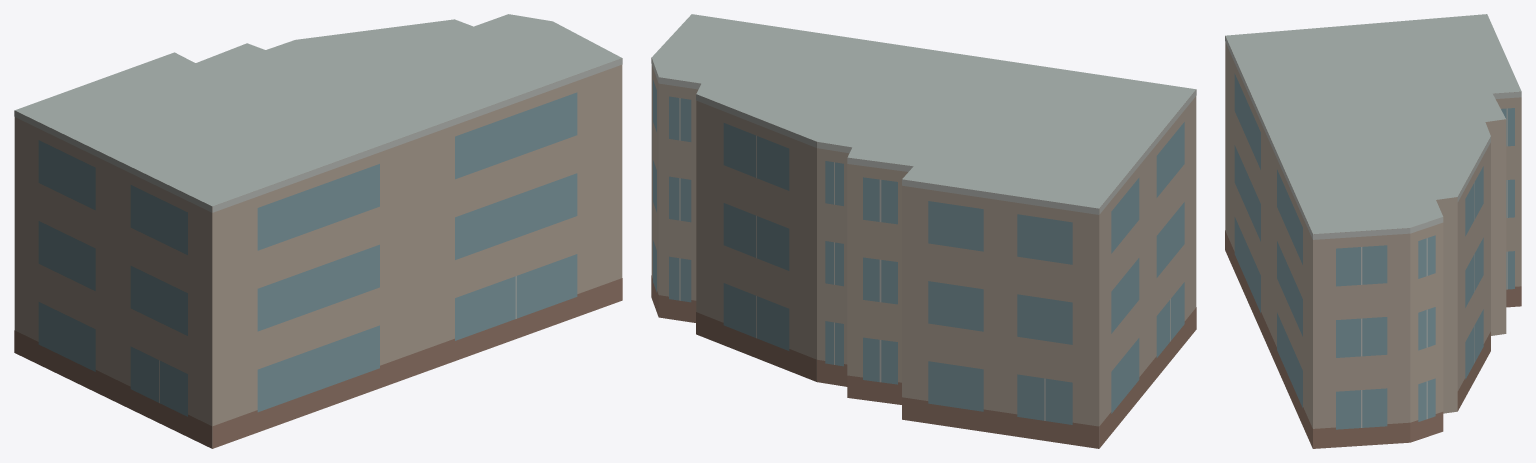
File: survey-upis-32913402.glb
The picture shows the model from 3 angles, left to right: view 1: azimuth 30°, elevation 25°; view 2: azimuth 150°, elevation 25°; view 3: azimuth 270°, elevation 25°; orthographic projection. The views are drawn at different scales.
Visible parts, largest first — view 1: survey-upis-32913402.tmp; view 2: survey-upis-32913402.tmp; view 3: survey-upis-32913402.tmp.
Boxes of the visible parts, <box> form: survey-upis-32913402.tmp: <box>14,14,622,448</box>; survey-upis-32913402.tmp: <box>651,14,1196,448</box>; survey-upis-32913402.tmp: <box>1225,14,1521,448</box>.
Size of the model in its own units: 20.13 by 9.15 by 11.46.
